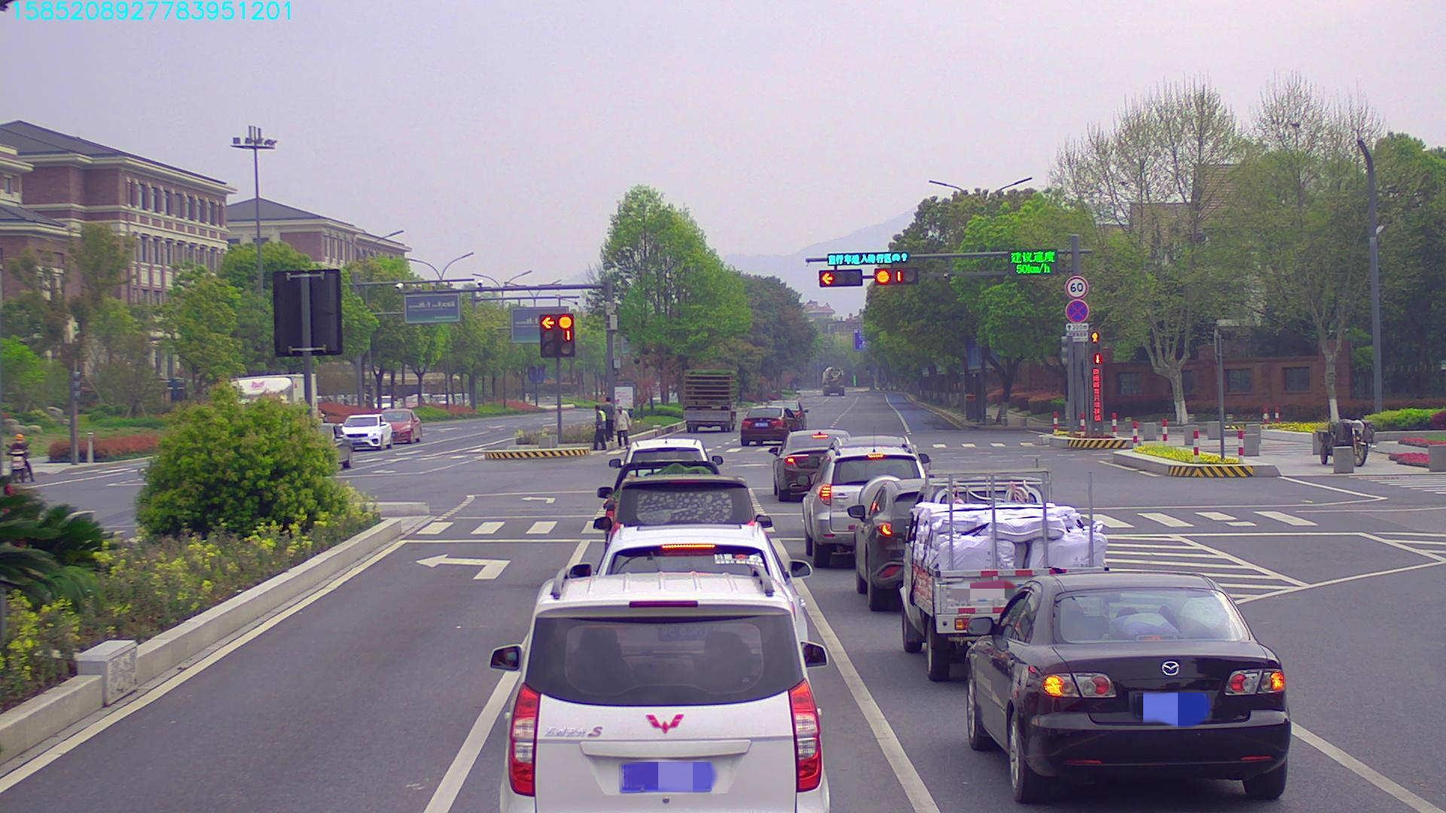red: (819, 266, 862, 285), (874, 266, 914, 285)
wait_on: (825, 253, 908, 266)
